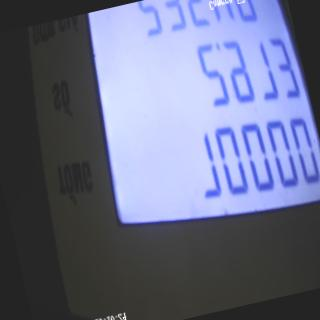screen: (65, 0, 320, 252)
